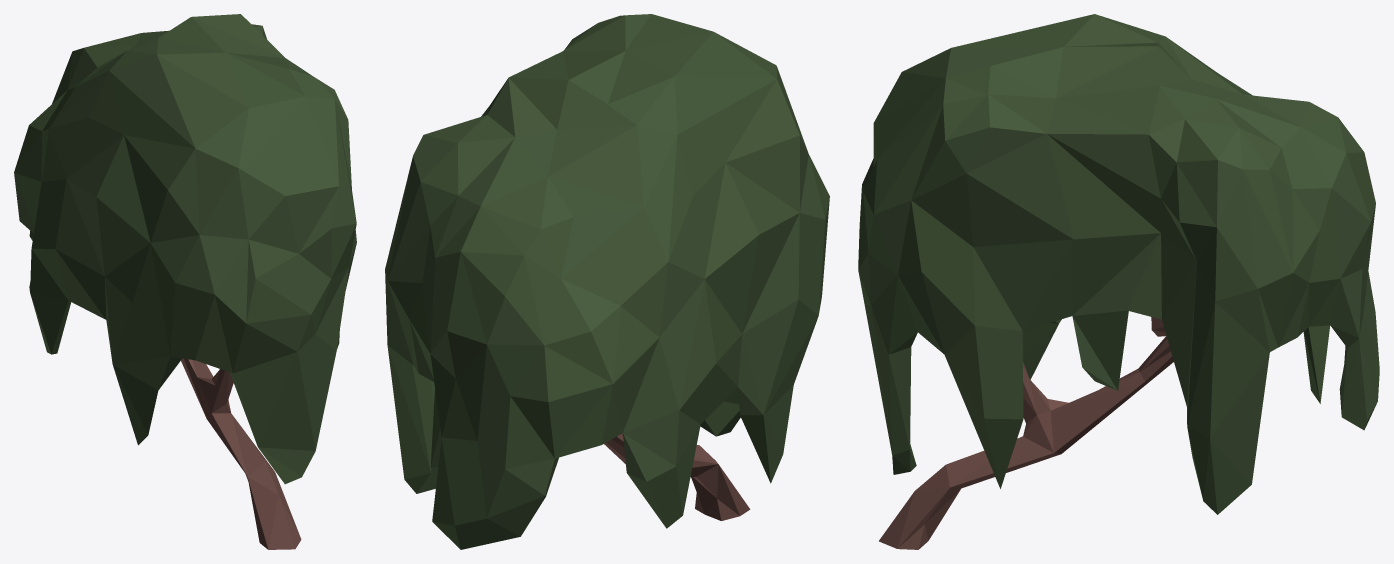
The model's file is Willow_2.lod2.glb.
3 views of the same model, side by side, from view 1: azimuth 30°, elevation 25°; view 2: azimuth 150°, elevation 25°; view 3: azimuth 270°, elevation 25° (orthographic). The views are drawn at different scales.
Parts seen in each view (by area): view 1: Willow_2; view 2: Willow_2; view 3: Willow_2.
Part boxes in pixels (bbox=[...]): Willow_2: bbox=[14, 14, 356, 549]; Willow_2: bbox=[385, 14, 829, 549]; Willow_2: bbox=[858, 14, 1379, 549].
Size of the model in its own units: 1.94 by 3.31 by 3.1.
